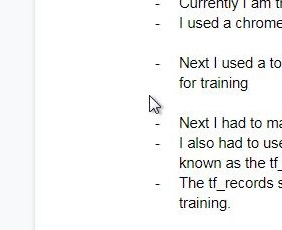cursor: (146, 92, 164, 116)
